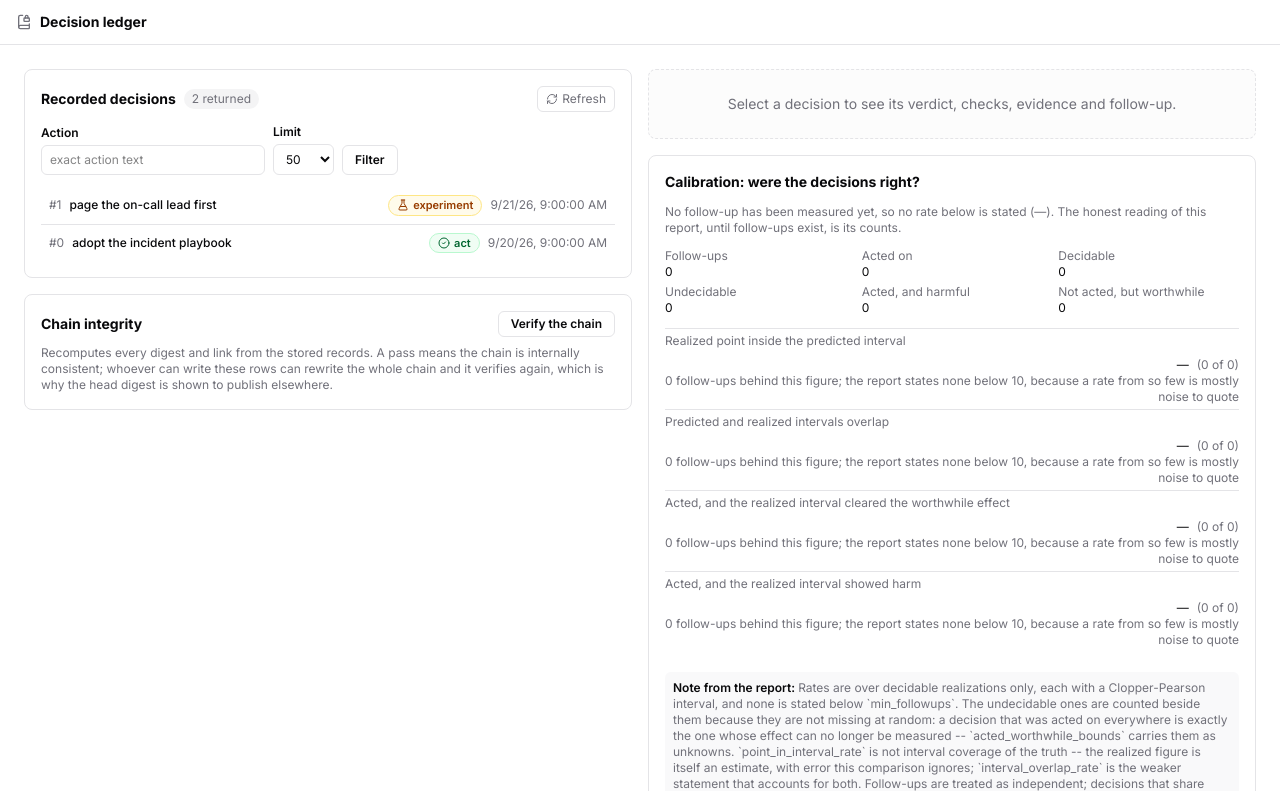
Test: decision ledger page › shows a selected decision's numbers in the kernel's format, the exact value as the title
Click the button with test id "decision-row". click: [152, 242]
box: [41, 225, 615, 261]
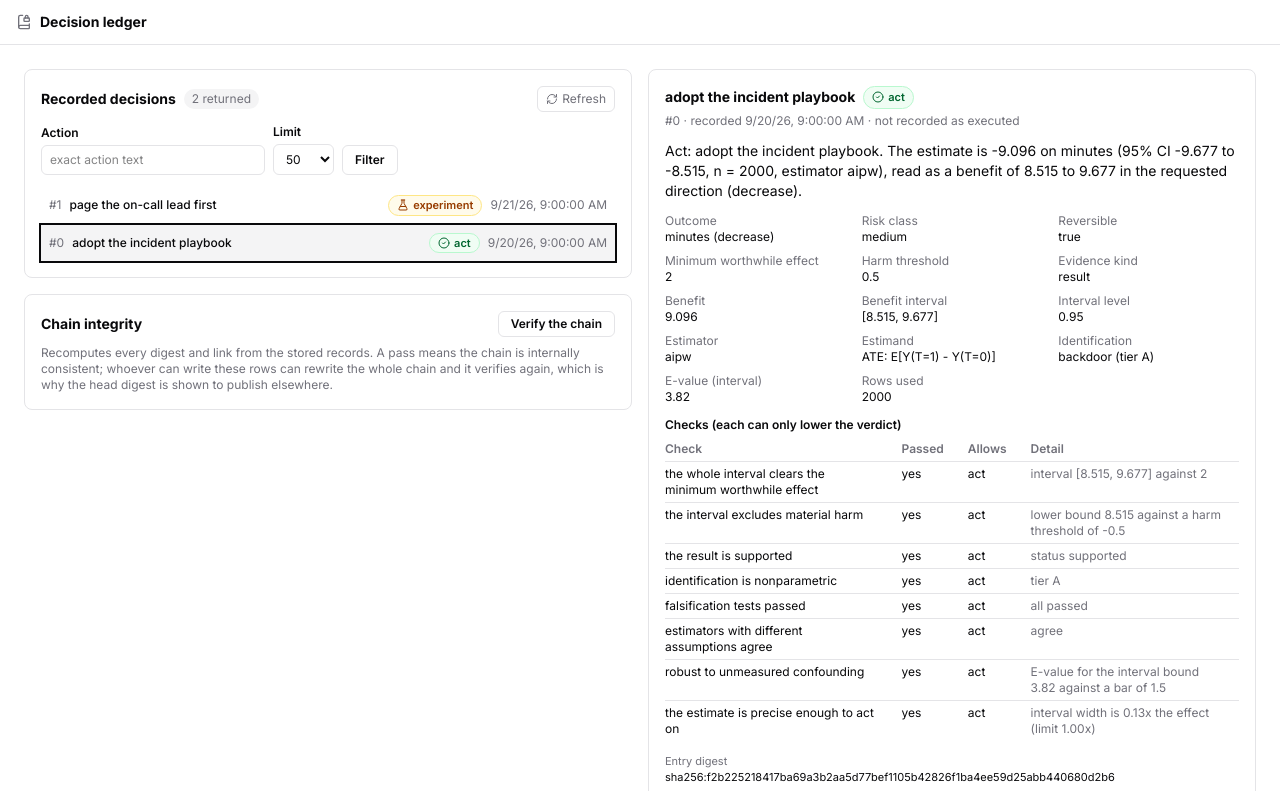
Now the text with test id "decision-benefit" reads "9.096", box [665, 308, 698, 324]
Now the text with test id "decision-benefit-ci" reads "[8.515, 9.677]", box [862, 308, 938, 324]
Now the column heading "the whole interval clears the minimum worthwhile effect" is shown, box [665, 461, 890, 502]
